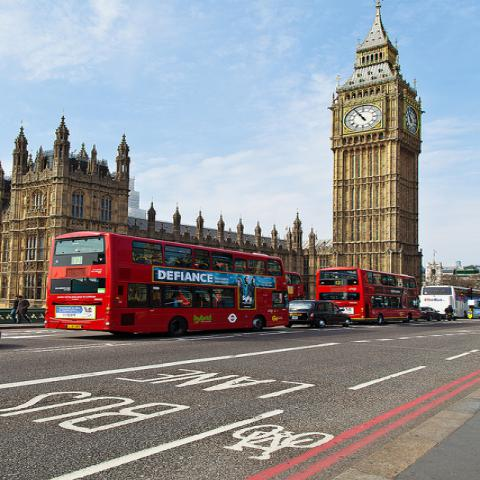bus: (41, 232, 290, 342), (314, 268, 422, 323), (419, 286, 479, 320)
car: (289, 300, 354, 328), (415, 305, 444, 322)
